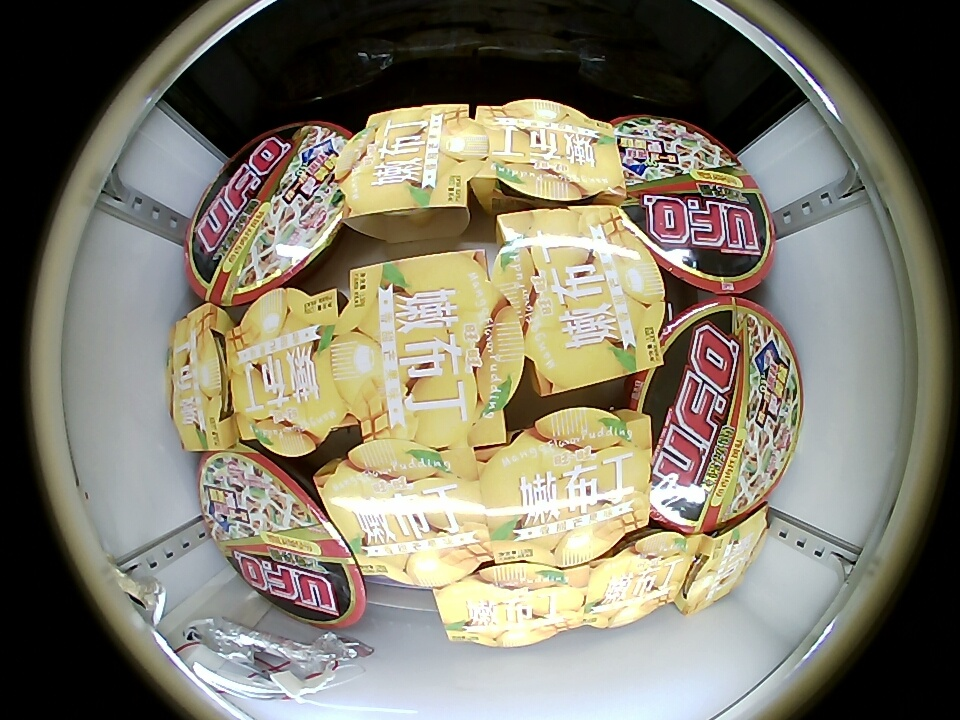buding: (332, 250, 524, 447), (493, 204, 666, 393), (481, 407, 652, 566), (315, 441, 491, 589), (229, 287, 345, 458), (337, 105, 489, 222), (470, 100, 621, 204), (433, 564, 587, 646), (588, 530, 699, 628), (168, 304, 236, 451), (677, 508, 769, 615)
ufo2: (633, 296, 802, 533), (185, 122, 354, 305), (197, 447, 366, 627), (611, 115, 775, 295)
